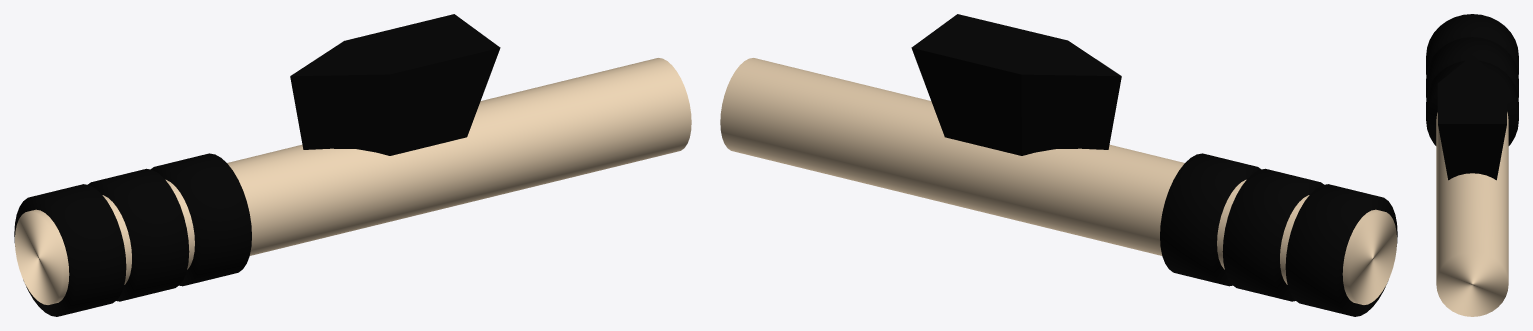
File: DroneWeapon.glb
3 views of the same model, side by side, from view 1: azimuth 30°, elevation 25°; view 2: azimuth 150°, elevation 25°; view 3: azimuth 270°, elevation 25° (orthographic). The views are drawn at different scales.
Visible parts, largest first — view 1: Cylinder.010, Cube.006, Cylinder.011, Cylinder.013, Cylinder.012; view 2: Cylinder.010, Cube.006, Cylinder.011, Cylinder.013, Cylinder.012; view 3: Cylinder.010, Cube.006, Cylinder.011, Cylinder.012, Cylinder.013.
Part boxes in pixels (x1,y1,x2,y2): Cylinder.010: [15, 58, 691, 304]; Cube.006: [290, 14, 500, 155]; Cylinder.011: [14, 184, 126, 316]; Cylinder.013: [151, 153, 251, 286]; Cylinder.012: [88, 168, 189, 301]; Cylinder.010: [720, 58, 1396, 304]; Cube.006: [911, 14, 1121, 155]; Cylinder.011: [1285, 184, 1397, 316]; Cylinder.013: [1160, 153, 1260, 286]; Cylinder.012: [1222, 168, 1323, 301]; Cylinder.010: [1436, 112, 1508, 316]; Cube.006: [1437, 55, 1506, 180]; Cylinder.011: [1426, 14, 1518, 75]; Cylinder.012: [1426, 37, 1518, 98]; Cylinder.013: [1426, 60, 1518, 145].
Size of the model in its own units: 0.4 by 0.1074 by 0.068.
